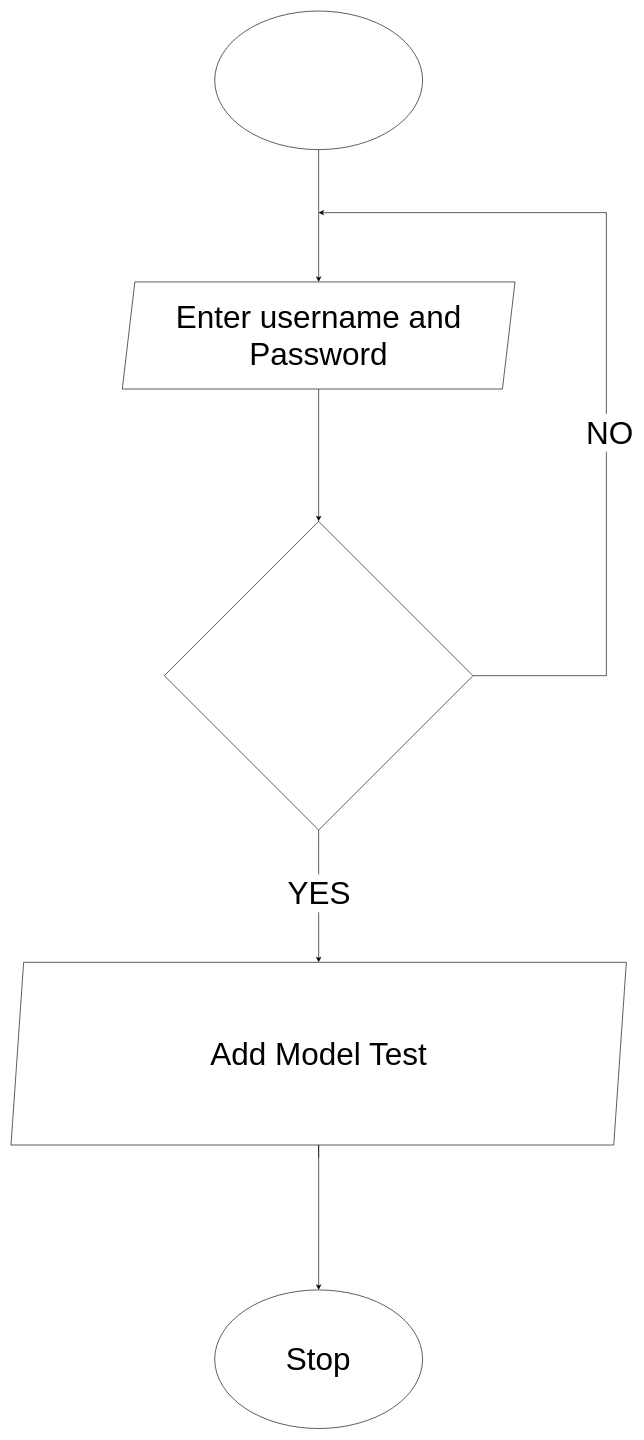
Some shapes in this 644 by 1440 pixel diagram are drawn without their labels. Each missing label, with the box of its shape:
Is Username and Password correct ?: (164, 521, 473, 830)
Start: (214, 10, 423, 150)
